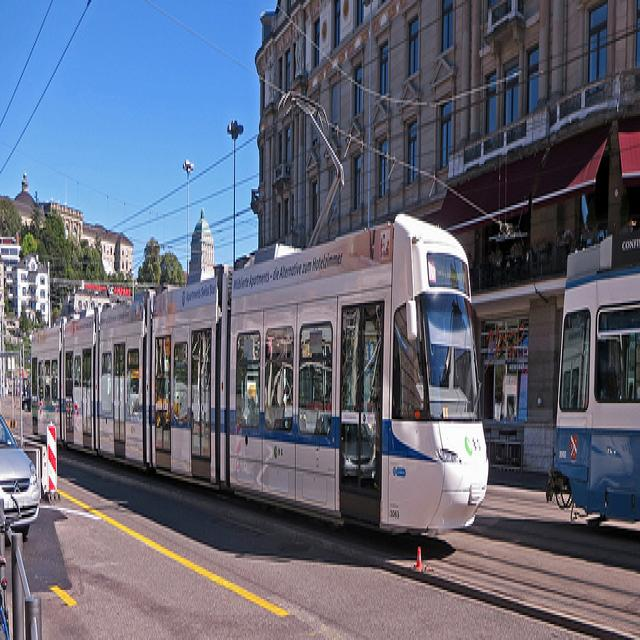Vehicle: (0, 411, 43, 548)
